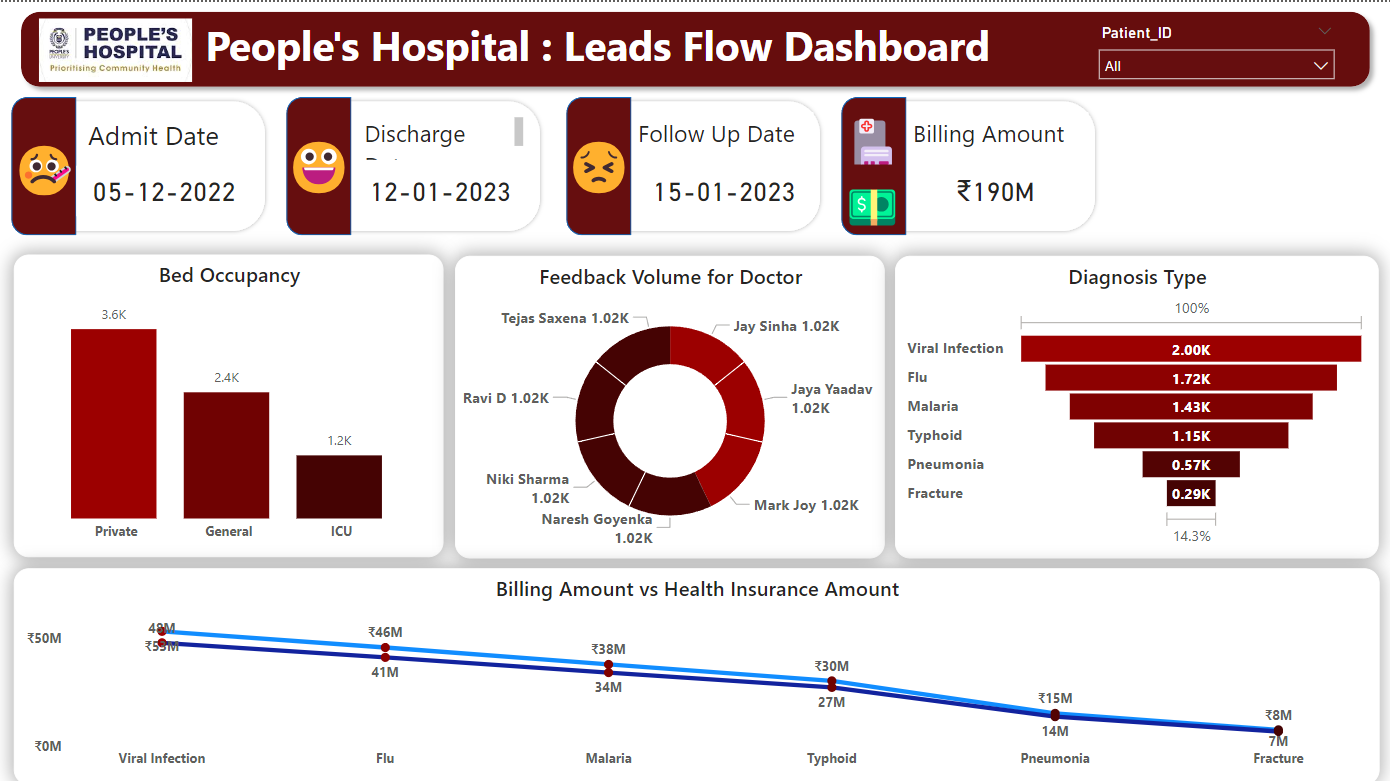

What the dashboard file says about the page in this screenshot:
{"tool":"powerbi","page":{"name":"Page 1","canvas":[1280,720],"ordinal":0},"visuals":[{"type":"shape","box":[9.8,0,1258.3,86.8],"z":0},{"type":"shape","box":[9.8,86.8,237.2,127.2],"z":1000},{"type":"shape","box":[9.8,86.8,59.9,127.2],"z":2000},{"type":"shape","box":[262.9,86.8,237.2,127.2],"z":3000},{"type":"shape","box":[262.9,86.8,59.9,127.2],"z":4000},{"type":"shape","box":[520.9,86.8,237.2,127.2],"z":5000},{"type":"shape","box":[520.9,86.8,59.9,127.2],"z":6000},{"type":"shape","box":[774.1,86.8,237.2,127.2],"z":7000},{"type":"shape","box":[774.1,86.8,59.9,127.2],"z":8000},{"type":"textbox","box":[22,9.6,1055.2,68.6],"z":9000},{"type":"card","fields":{"Values":["Min(Sheet1.Admit_Date)"]},"box":[70,150.9,161.9,46.7],"z":9001},{"type":"textbox","box":[75.5,101.5,156.4,49.4],"z":9002},{"type":"card","fields":{"Values":["Min(Sheet1.Discharge_Date)"]},"box":[323.8,150.9,161.9,46.7],"z":9003},{"type":"textbox","box":[329.3,101.5,156.4,49.4],"z":9004},{"type":"textbox","box":[581.8,101.5,166,49.4],"z":9005},{"type":"card","fields":{"Values":["Min(Sheet1.Followup Date)"]},"box":[584.6,150.9,161.9,46.7],"z":9006},{"type":"textbox","box":[834.3,101.5,166,49.4],"z":9007},{"type":"card","fields":{"Values":["Sum(Sheet1.Billing Amount)"]},"box":[834.3,150.9,161.9,46.7],"z":9008},{"type":"slicer","fields":{"Values":["Sheet1.Patient_ID"]},"box":[1000.3,15.1,237.4,59],"z":9009},{"type":"columnChart","title":"Bed Occupancy","fields":{"Category":["Sheet1.Bed_Occupancy"],"Y":["CountNonNull(Sheet1.Bed_Occupancy)"]},"box":[12.3,231.9,395.2,278.6],"z":9010},{"type":"donutChart","title":"Feedback Volume for Doctor","fields":{"Category":["Sheet1.Doctor"],"Y":["CountNonNull(Sheet1.Doctor)"]},"box":[418.5,233.3,395.2,278.6],"z":9011},{"type":"funnel","title":"Diagnosis Type","fields":{"Category":["Sheet1.Diagnosis"],"Y":["CountNonNull(Sheet1.Diagnosis)"]},"box":[823.3,233.3,444.6,278.6],"z":9012},{"type":"lineChart","title":"Billing Amount vs Health Insurance Amount","fields":{"Y":["Sum(Sheet1.Billing Amount)","Sum(Sheet1.Health Insurance Amount)"],"Category":["Sheet1.Diagnosis"]},"box":[12.2,520.9,1255.8,199.3],"z":9013},{"type":"image","box":[30.6,9.8,150.4,68.5],"z":9014},{"type":"textbox","box":[3.7,113.7,73.4,74.6],"z":9015},{"type":"textbox","box":[255.6,112.5,73.4,74.6],"z":9016},{"type":"textbox","box":[512.4,112.5,73.4,74.6],"z":9017},{"type":"textbox","box":[767.9,91.7,73.4,132.1],"z":9018}]}

Visuals, with their boxes in screenshot pixels (x1, y1, x2, y2), scaled from the page's 1280x720 canvas onto the 1390x781 screenshot:
shape: 11, 0, 1377, 94
shape: 11, 94, 268, 232
shape: 11, 94, 76, 232
shape: 285, 94, 543, 232
shape: 285, 94, 351, 232
shape: 566, 94, 823, 232
shape: 566, 94, 631, 232
shape: 841, 94, 1098, 232
shape: 841, 94, 906, 232
textbox: 24, 10, 1170, 85
card - Min(Sheet1.Admit_Date): 76, 164, 252, 214
textbox: 82, 110, 252, 164
card - Min(Sheet1.Discharge_Date): 352, 164, 527, 214
textbox: 358, 110, 527, 164
textbox: 632, 110, 812, 164
card - Min(Sheet1.Followup Date): 635, 164, 811, 214
textbox: 906, 110, 1086, 164
card - Sum(Sheet1.Billing Amount): 906, 164, 1082, 214
slicer - Sheet1.Patient_ID: 1086, 16, 1344, 80
"Bed Occupancy" columnChart: 13, 252, 443, 554
"Feedback Volume for Doctor" donutChart: 454, 253, 884, 555
"Diagnosis Type" funnel: 894, 253, 1377, 555
"Billing Amount vs Health Insurance Amount" lineChart: 13, 565, 1377, 780
image: 33, 11, 197, 85
textbox: 4, 123, 84, 204
textbox: 278, 122, 357, 203
textbox: 556, 122, 636, 203
textbox: 834, 99, 914, 243
